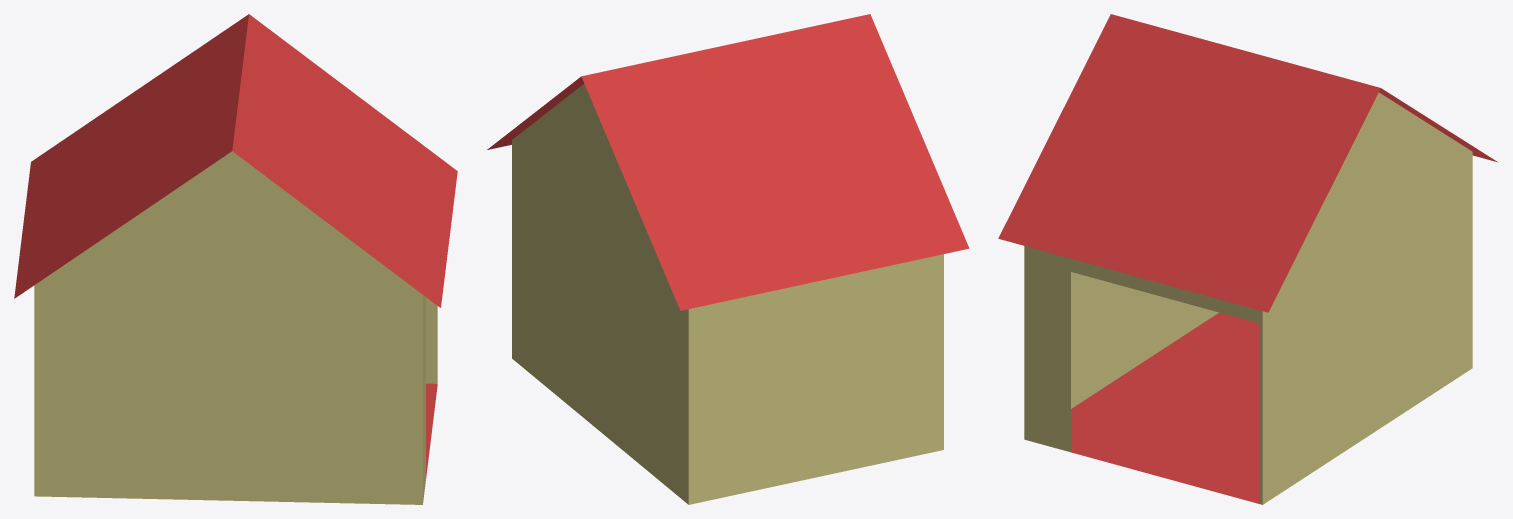
3 views of the same model, side by side, from view 1: azimuth 30°, elevation 25°; view 2: azimuth 150°, elevation 25°; view 3: azimuth 270°, elevation 25° (orthographic).
Size of the model in its own units: 14.06 by 13.27 by 10.37.
